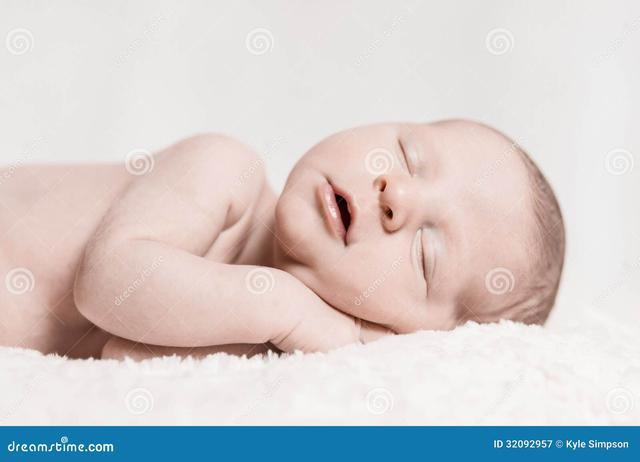sleep: (273, 117, 555, 334)
